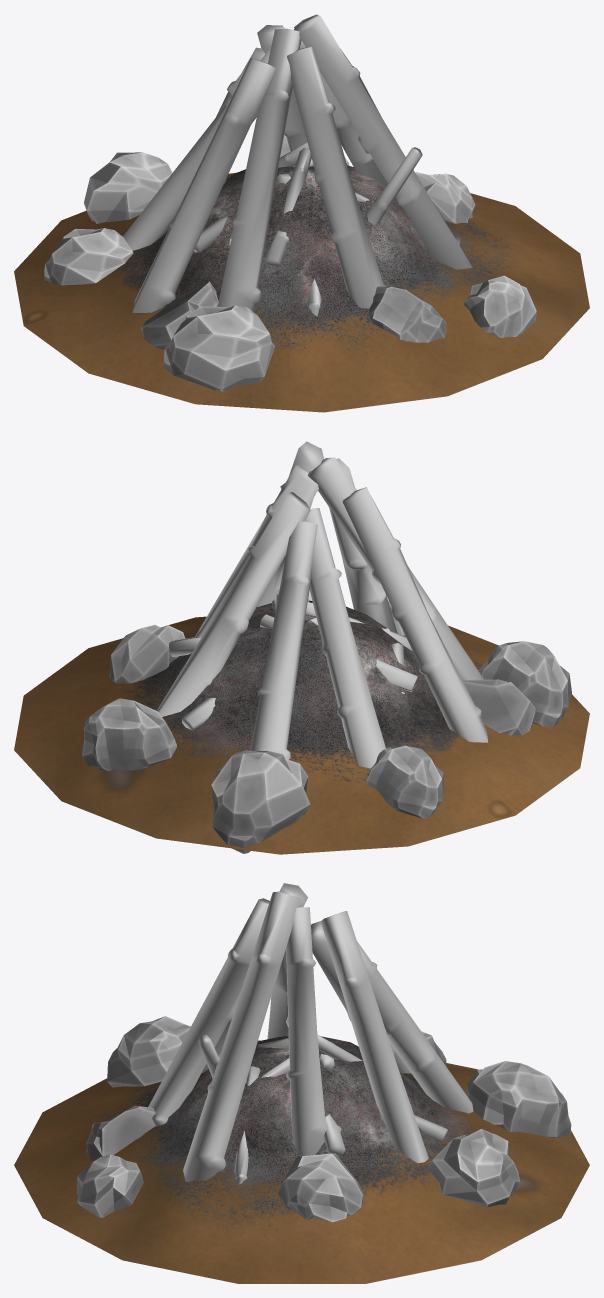
Rendered from Fire2.FBX.
The picture shows the model from 3 angles, top to bottom: view 1: azimuth 30°, elevation 25°; view 2: azimuth 150°, elevation 25°; view 3: azimuth 270°, elevation 25°; orthographic projection.
Parts seen in each view (by area): view 1: Sphere001; view 2: Sphere001; view 3: Sphere001.
Part boxes in pixels (x1,y1,x2,y2): Sphere001: (14,14,589,412); Sphere001: (14,441,589,854); Sphere001: (14,883,589,1283).
Size of the model in its own units: 2247 by 1411 by 2304.
